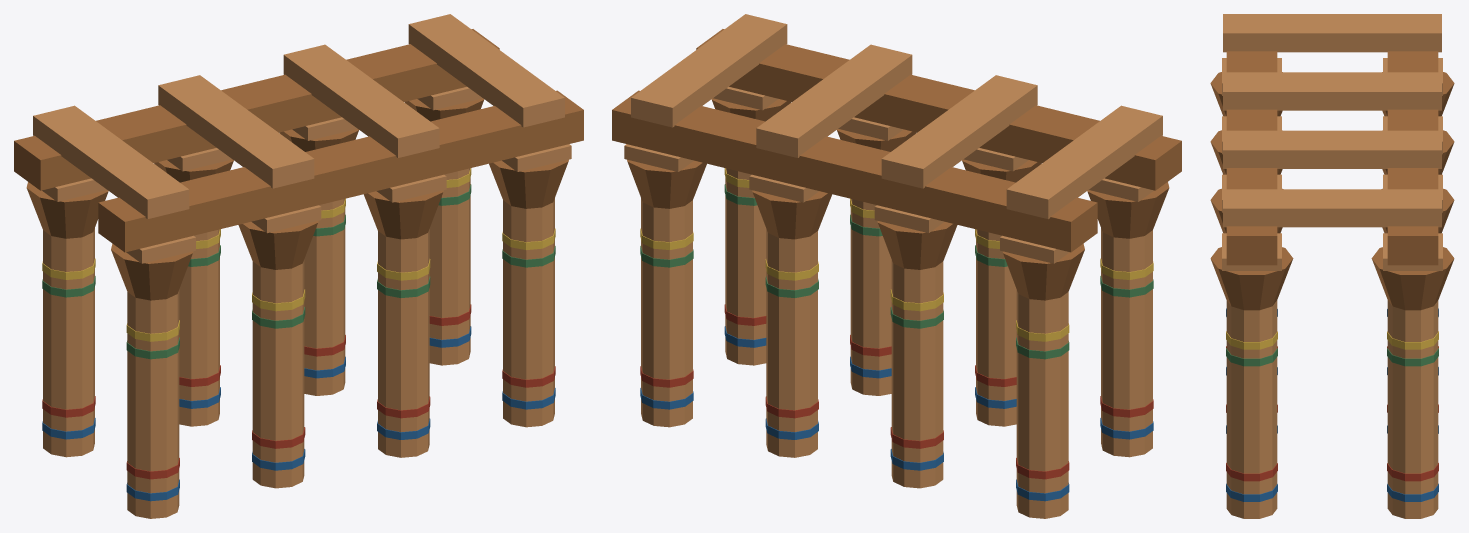
The model's file is kolonnad.glb.
The picture shows the model from 3 angles, left to right: view 1: azimuth 30°, elevation 25°; view 2: azimuth 150°, elevation 25°; view 3: azimuth 270°, elevation 25°; orthographic projection. The views are drawn at different scales.
Parts seen in each view (by area): view 1: kolonnad; view 2: kolonnad; view 3: kolonnad.
Boxes of the visible parts, <box> form: kolonnad: <box>14,14,583,518</box>; kolonnad: <box>612,14,1181,518</box>; kolonnad: <box>1210,14,1454,518</box>.
Size of the model in its own units: 22 by 14.85 by 10.6.
